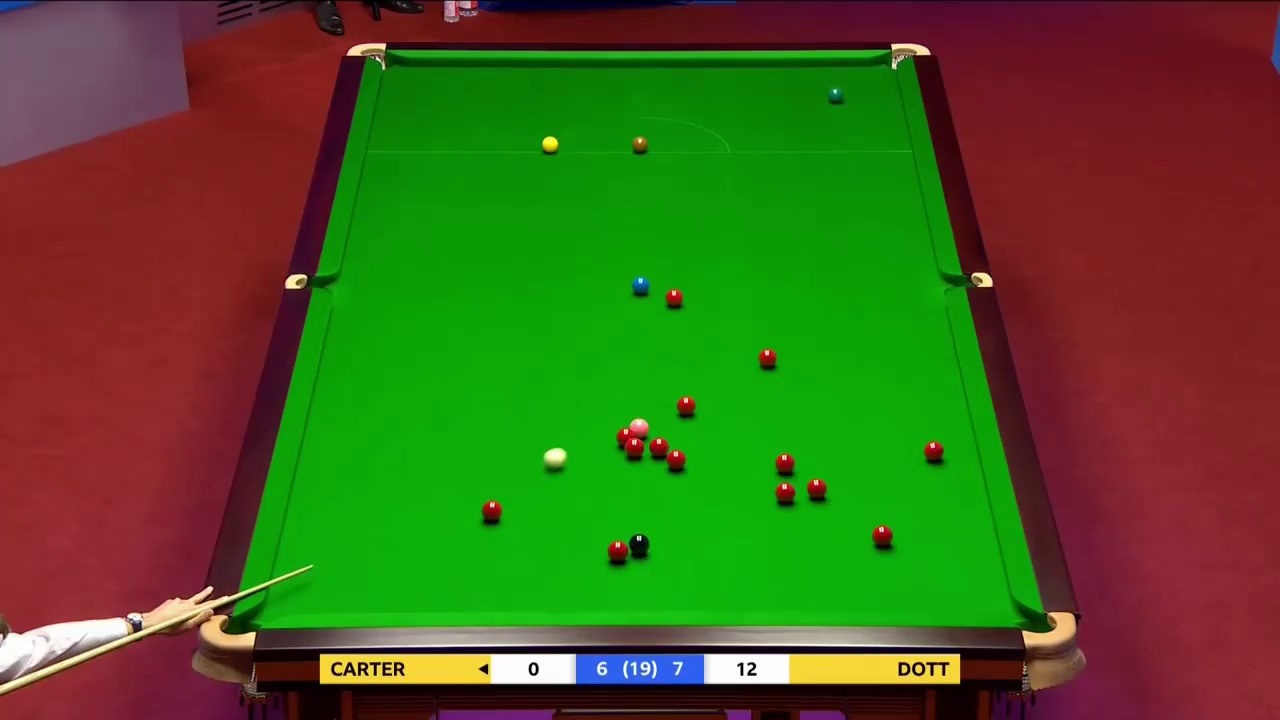ball: (803, 476, 827, 500), (622, 435, 645, 459), (628, 532, 651, 556), (605, 541, 628, 562), (924, 441, 946, 462), (871, 523, 894, 543), (479, 499, 502, 519), (775, 480, 795, 502), (756, 349, 779, 368), (665, 449, 685, 470), (629, 134, 651, 153), (675, 396, 695, 416), (632, 273, 650, 295), (541, 134, 560, 152), (775, 454, 794, 471), (663, 289, 683, 304), (826, 87, 844, 102)
